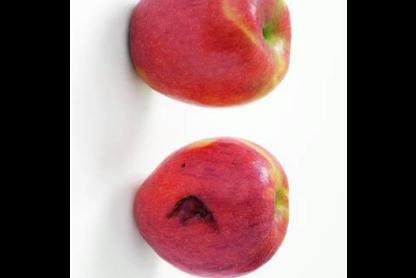defect: (154, 188, 236, 246)
